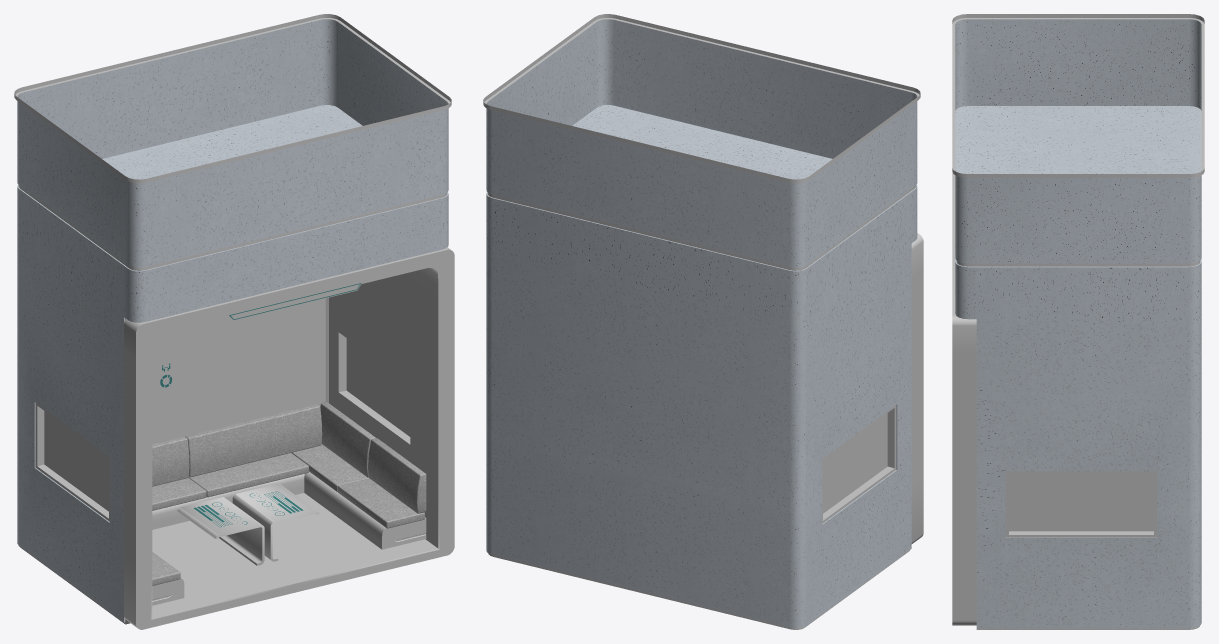
Rendered from M_W_PillarSmallTalk_001.fbx.
3 views of the same model, side by side, from view 1: azimuth 30°, elevation 25°; view 2: azimuth 150°, elevation 25°; view 3: azimuth 270°, elevation 25° (orthographic).
Visible parts, largest first — view 1: M_W_PillarSmallTalk_001, M_W_PillarSmallTalk_001_bench, M_W_PillarSmallTalk_001_glass, M_W_PillarSmallTalk_001_table; view 2: M_W_PillarSmallTalk_001, M_W_PillarSmallTalk_001_glass; view 3: M_W_PillarSmallTalk_001, M_W_PillarSmallTalk_001_glass.
Boxes of the visible parts, x1=… form: M_W_PillarSmallTalk_001: x1=14, y1=14, x2=454, y2=629; M_W_PillarSmallTalk_001_bench: x1=152, y1=402, x2=426, y2=605; M_W_PillarSmallTalk_001_glass: x1=44, y1=326, x2=410, y2=564; M_W_PillarSmallTalk_001_table: x1=177, y1=483, x2=319, y2=565; M_W_PillarSmallTalk_001: x1=483, y1=14, x2=923, y2=629; M_W_PillarSmallTalk_001_glass: x1=823, y1=413, x2=887, y2=513; M_W_PillarSmallTalk_001: x1=952, y1=14, x2=1204, y2=629; M_W_PillarSmallTalk_001_glass: x1=1009, y1=473, x2=1153, y2=531.
Size of the model in its own units: 6 by 8 by 4.
